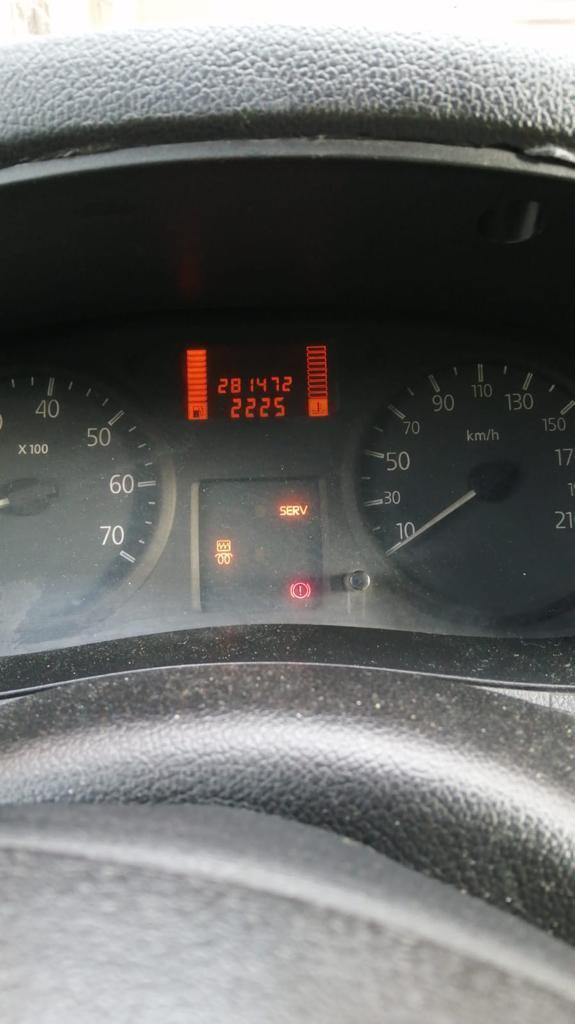1: (247, 377, 254, 392)
2: (229, 396, 242, 419), (243, 396, 256, 418), (258, 396, 271, 417), (281, 375, 293, 392), (217, 377, 228, 394)
4: (255, 376, 266, 392)
5: (272, 395, 285, 418)
7: (270, 375, 280, 392)
8: (229, 377, 241, 394)
odometer: (166, 336, 348, 438)
